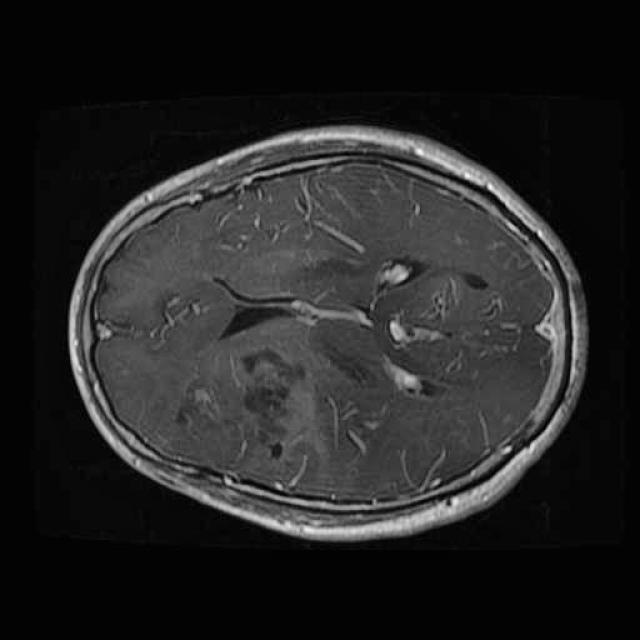Tumor: (174, 324, 328, 498)
